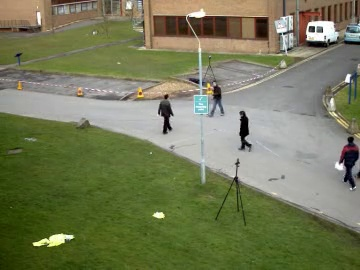person: (237, 110, 255, 151), (158, 95, 175, 135), (209, 80, 224, 116)
